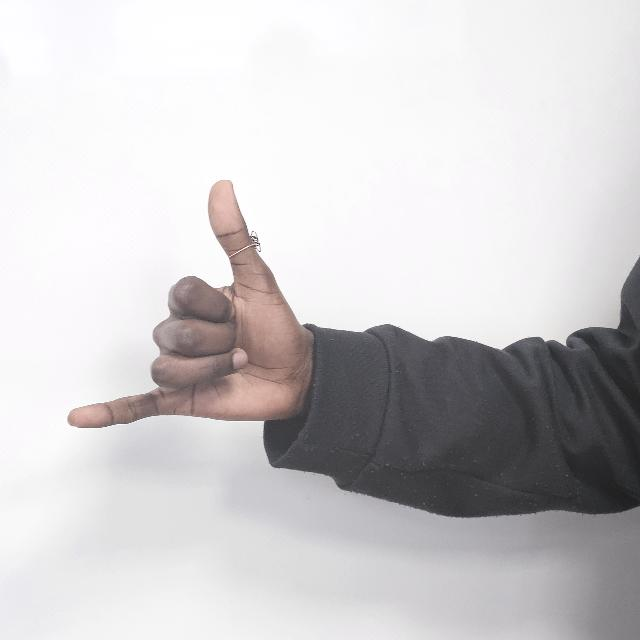Direita: (66, 180, 304, 460)
